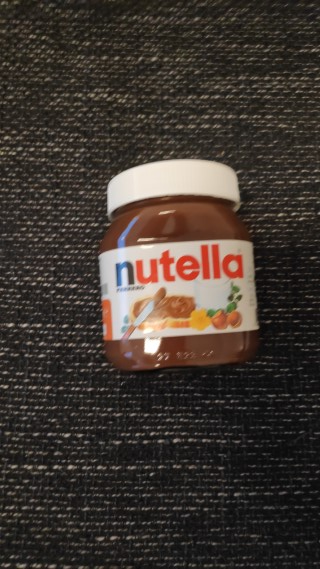nutella: (95, 156, 260, 376)
